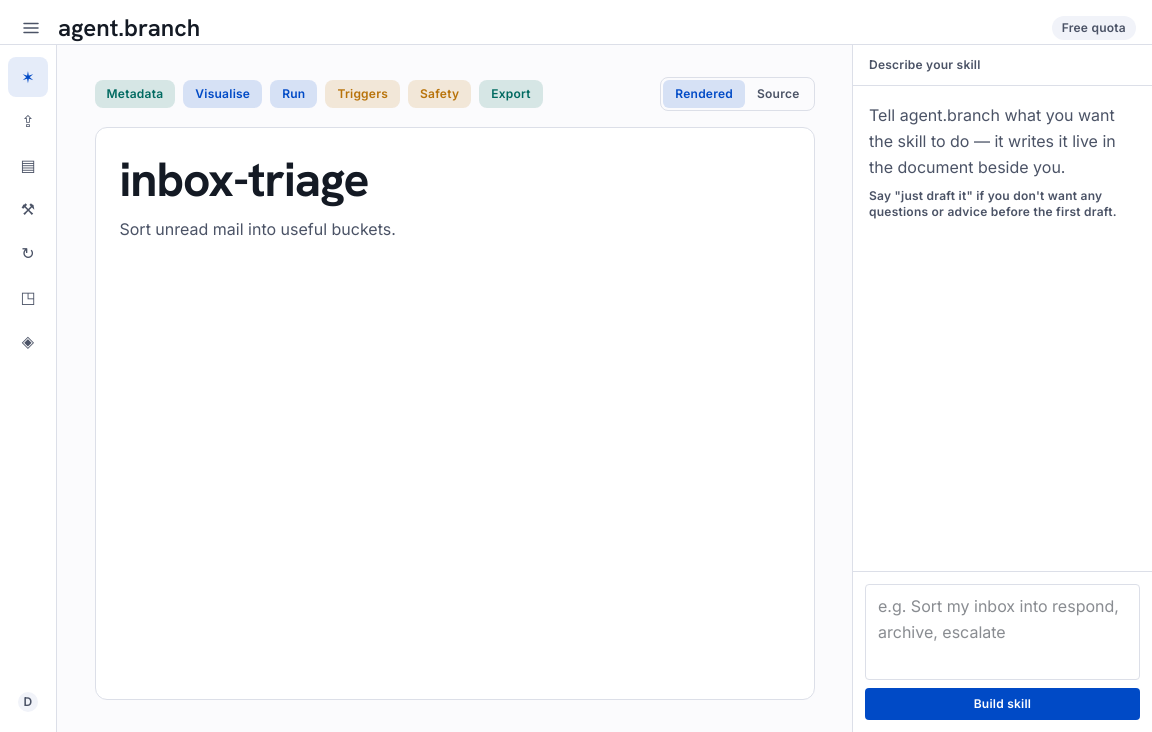
Scenario: AppShell capability chips › offers the import rungs in ascending complexity and swaps the input to match
This screenshot has width=1152, height=732.
Click the button named "Import".
click(28, 121)  # box [8,101,48,141]
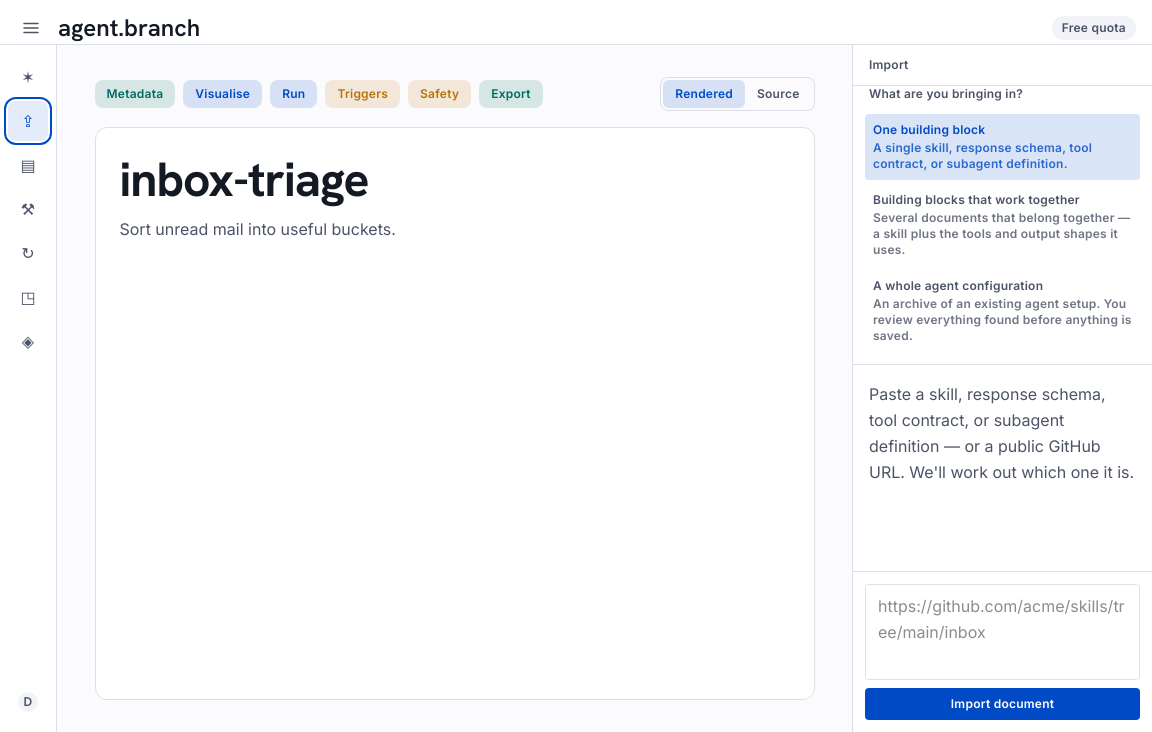
expect the text box is shown: met, box [865,584,1140,680]
expect the button that starts with "Building blocks that work together" is shown: met, box [865,184,1140,266]
Click the button "A whole agent configuration".
click(1002, 311)  # box [865,270,1140,352]
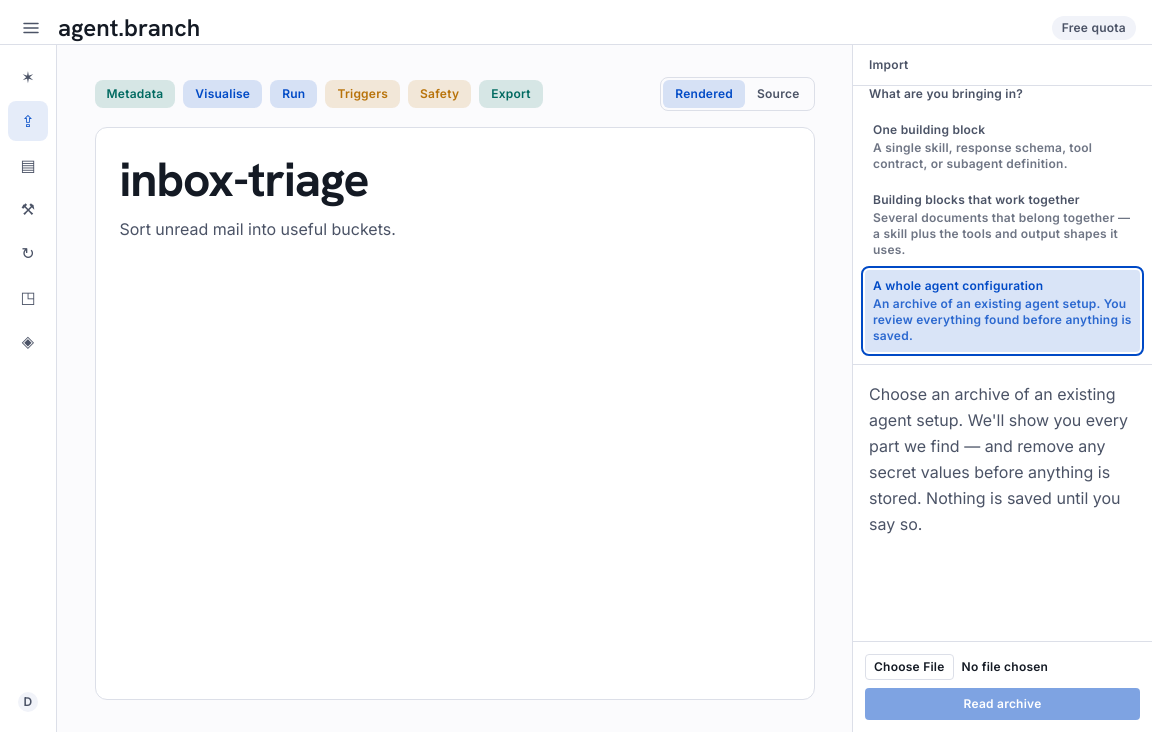
expect the file field named "Agent configuration archive" is shown: met, box [865,654,1140,680]
expect the button "Read archive" is disabled: met, box [865,688,1140,720]
